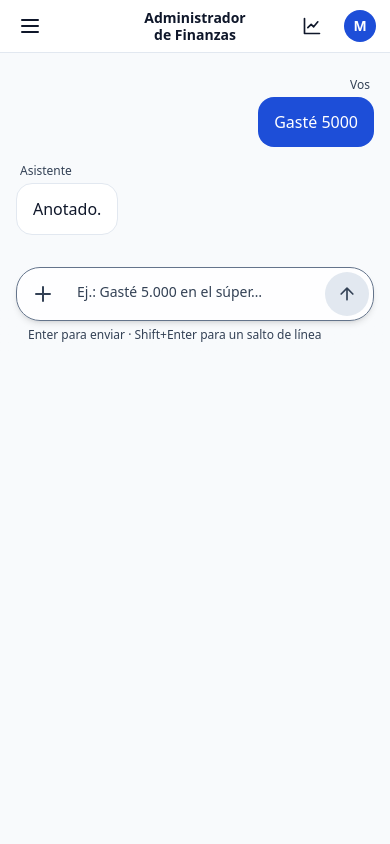
Scenario: la hamburguesa (a la izquierda) abre las conversaciones › elegir una conversación de la lista cierra el menú
Click the button named "Conversaciones".
click(30, 26)  # box [8,4,52,48]
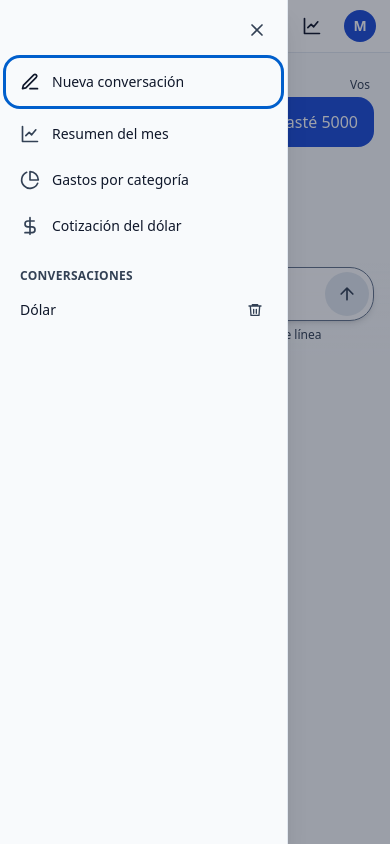
Click the link "Dólar".
click(38, 310)  # box [20,300,56,319]
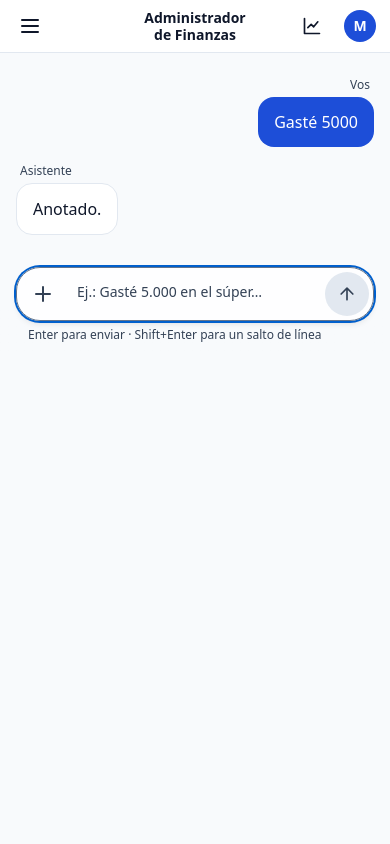
Expected: the button named "Conversaciones" is collapsed, [8,4,52,48]
